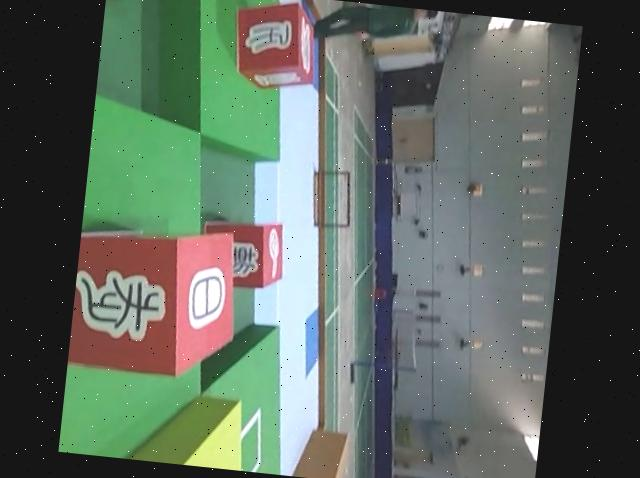R2 Fake: (66, 219, 243, 383), (225, 0, 323, 91), (193, 216, 289, 292), (104, 0, 177, 11)
